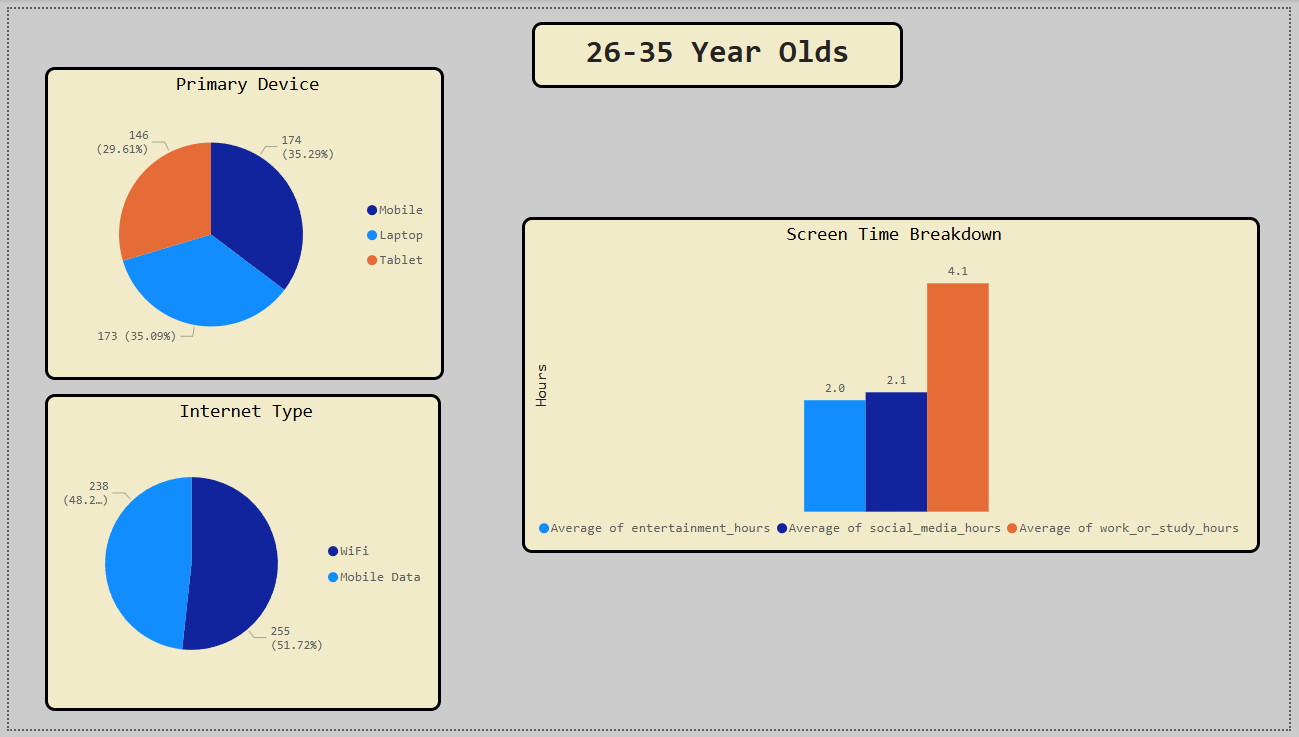

What the dashboard file says about the page in this screenshot:
{"tool":"powerbi","page":{"name":"26-35yr olds","canvas":[1280,720],"ordinal":3},"visuals":[{"type":"pieChart","title":"Primary Device","fields":{"Category":["daily_internet_usage_by_age_gro.primary_device"],"Y":["CountNonNull(daily_internet_usage_by_age_gro.primary_device)"]},"box":[36.1,57.7,398.8,313.3],"z":0},{"type":"pieChart","title":"Internet Type","fields":{"Category":["daily_internet_usage_by_age_gro.internet_type"],"Y":["CountNonNull(daily_internet_usage_by_age_gro.internet_type)"]},"box":[36.1,385.4,395.7,316.4],"z":1000},{"type":"clusteredColumnChart","title":"Screen Time Breakdown","fields":{"Y":["Avg(daily_internet_usage_by_age_gro.entertainment_hours)","Avg(daily_internet_usage_by_age_gro.social_media_hours)","Avg(daily_internet_usage_by_age_gro.work_or_study_hours)"]},"box":[513.2,208.2,737.9,336],"z":2000},{"type":"textbox","box":[522.5,13.4,371,66],"z":3000}]}

Visuals, with their boxes in screenshot pixels (x1, y1, x2, y2), scaled from the page's 1280x720 canvas onto the 1299x737 screenshot:
"Primary Device" pieChart: [37,59,441,380]
"Internet Type" pieChart: [37,394,438,718]
"Screen Time Breakdown" clusteredColumnChart: [521,213,1270,557]
textbox: [530,14,907,81]
